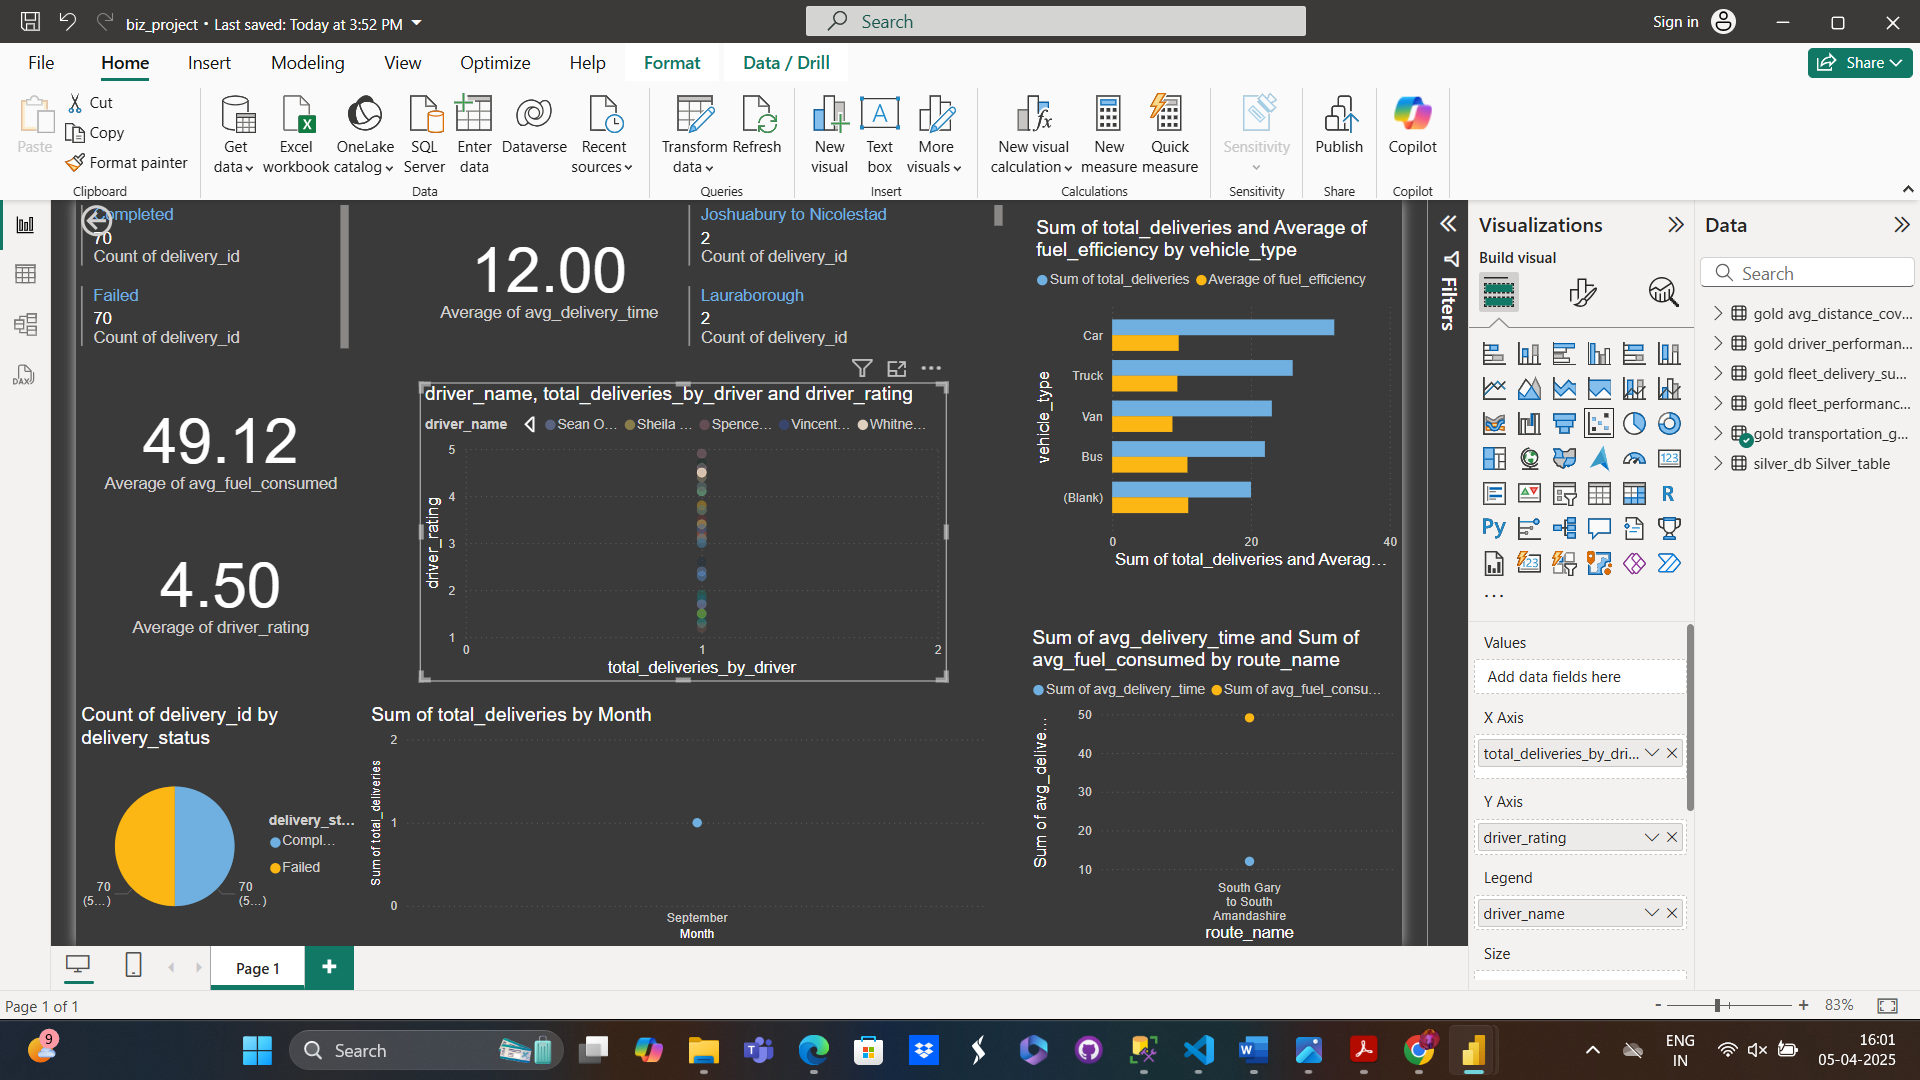

The dashboard page shown, as its layout file describes it:
{"tool":"powerbi","page":{"name":"Page 1","canvas":[1280,720],"ordinal":0},"visuals":[{"type":"card","fields":{"Values":["Avg(gold transportation_gold.avg_delivery_time)"]},"box":[327.7,0,257.7,143.4],"z":0},{"type":"card","fields":{"Values":["Avg(gold transportation_gold.avg_fuel_consumed)"]},"box":[0,162.1,279.9,150.2],"z":2},{"type":"card","fields":{"Values":["Avg(gold transportation_gold.driver_rating)"]},"box":[0,300.4,279.9,150.2],"z":3},{"type":"card","fields":{"Values":["CountNonNull(silver_db Silver_table.delivery_id)"]},"box":[614.4,570,221.9,150.2],"z":4},{"type":"lineChart","fields":{"Category":["gold transportation_gold.route_name"],"Y":["Sum(gold transportation_gold.avg_delivery_time)","Sum(gold transportation_gold.avg_fuel_consumed)"]},"box":[918.2,411.3,361.8,308.9],"z":5},{"type":"clusteredBarChart","fields":{"Category":["gold fleet_performance2.vehicle_type"],"Y":["Sum(gold fleet_performance2.total_deliveries)","Avg(gold fleet_performance2.fuel_efficiency)"]},"box":[921.6,15.4,358.4,344.7],"z":6},{"type":"lineChart","fields":{"Category":["gold transportation_gold.report_date.Variation.Date Hierarchy.Month"],"Y":["Sum(gold transportation_gold.total_deliveries)"]},"box":[279.9,486.4,604.2,233.8],"z":8},{"type":"pieChart","fields":{"Category":["silver_db Silver_table.delivery_status"],"Y":["CountNonNull(silver_db Silver_table.delivery_id)"]},"box":[0,486,280,234],"z":9},{"type":"multiRowCard","fields":{"Values":["silver_db Silver_table.delivery_status","silver_db Silver_table.delivery_id"]},"box":[0,0,267.9,160.4],"z":10},{"type":"actionButton","box":[0,0,100,40],"z":11},{"type":"multiRowCard","fields":{"Values":["silver_db Silver_table.delivery_id","silver_db Silver_table.route_name"]},"box":[586,0,313,150],"z":12},{"type":"scatterChart","fields":{"X":["gold transportation_gold.total_deliveries_by_driver"],"Y":["gold transportation_gold.driver_rating"],"Series":["gold transportation_gold.driver_name"]},"box":[360.1,167.3,508.6,288.4],"z":13},{"type":"qnaVisual","box":[360.1,455.7,508.6,150],"z":14}]}

Visuals, with their boxes on the page's 1280x720 design canvas (x1, y1, x2, y2). These are canvas units, not pixel positions in the 1920x1080 screenshot, which may show the page scaled, cropped or inside an application window:
card - Avg(gold transportation_gold.avg_delivery_time): l=328, t=0, r=585, b=143
card - Avg(gold transportation_gold.avg_fuel_consumed): l=0, t=162, r=280, b=312
card - Avg(gold transportation_gold.driver_rating): l=0, t=300, r=280, b=451
card - CountNonNull(silver_db Silver_table.delivery_id): l=614, t=570, r=836, b=720
lineChart - gold transportation_gold.route_name x Sum(gold transportation_gold.avg_delivery_time): l=918, t=411, r=1280, b=720
clusteredBarChart - gold fleet_performance2.vehicle_type x Sum(gold fleet_performance2.total_deliveries): l=922, t=15, r=1280, b=360
lineChart - gold transportation_gold.report_date.Variation.Date Hierarchy.Month x Sum(gold transportation_gold.total_deliveries): l=280, t=486, r=884, b=720
pieChart - silver_db Silver_table.delivery_status x CountNonNull(silver_db Silver_table.delivery_id): l=0, t=486, r=280, b=720
multiRowCard - silver_db Silver_table.delivery_status x silver_db Silver_table.delivery_id: l=0, t=0, r=268, b=160
actionButton: l=0, t=0, r=100, b=40
multiRowCard - silver_db Silver_table.delivery_id x silver_db Silver_table.route_name: l=586, t=0, r=899, b=150
scatterChart - gold transportation_gold.total_deliveries_by_driver x gold transportation_gold.driver_rating: l=360, t=167, r=869, b=456
qnaVisual: l=360, t=456, r=869, b=606
